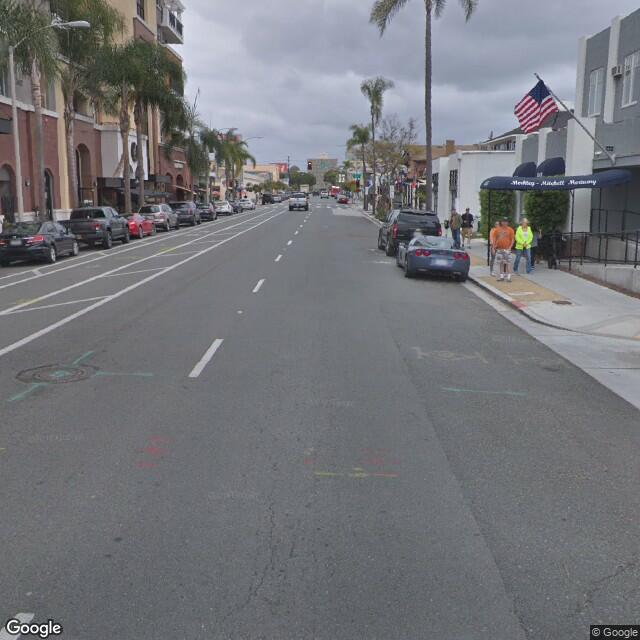light: (62, 16, 91, 34)
road line: (182, 272, 269, 389), (268, 236, 296, 264)
